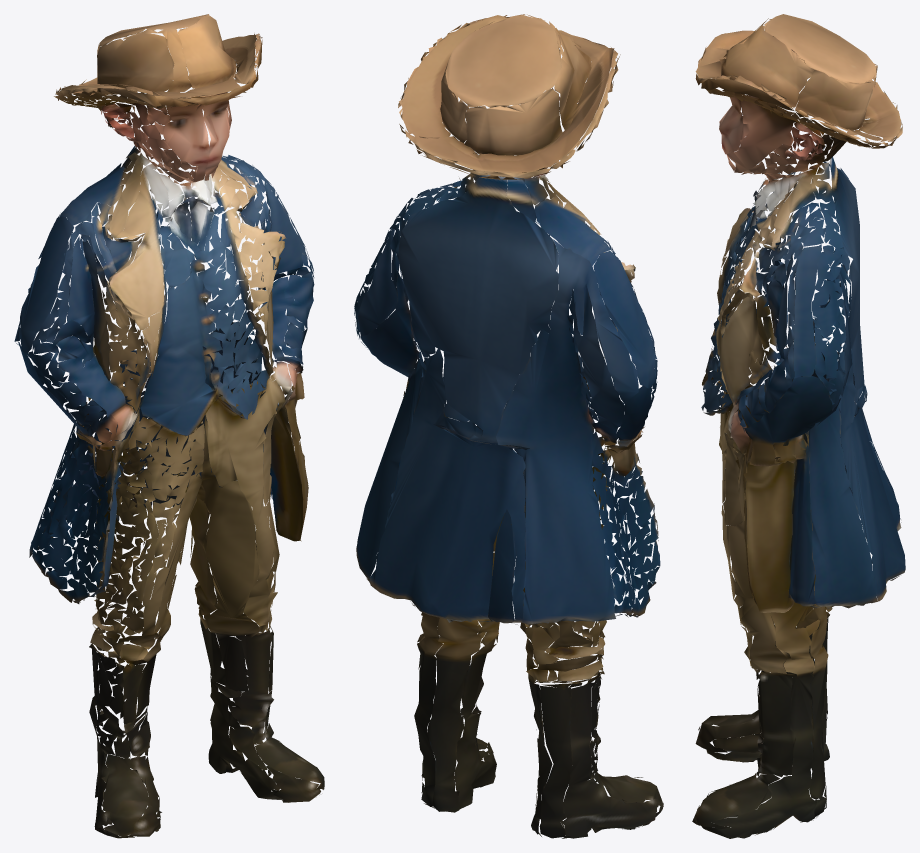
The model's file is char_child_m.glb.
3 renders of one model, left to right at view 1: azimuth 30°, elevation 25°; view 2: azimuth 150°, elevation 25°; view 3: azimuth 270°, elevation 25°, orthographic. The views are drawn at different scales.
Visible parts, largest first — view 1: geometry_0; view 2: geometry_0; view 3: geometry_0.
Part boxes in pixels (bbox=[...]): geometry_0: bbox=[14, 14, 324, 838]; geometry_0: bbox=[354, 14, 663, 838]; geometry_0: bbox=[692, 14, 905, 838].
Bounding box in the file's own units: 0.46 × 1.2 × 0.3066.
1 material, 1 textured.
